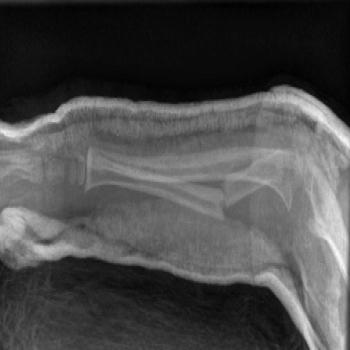Fracture: (215, 177, 234, 223)
